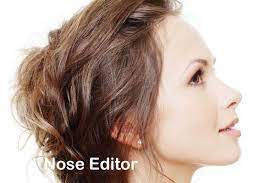n.sharp: (213, 74, 241, 107)
